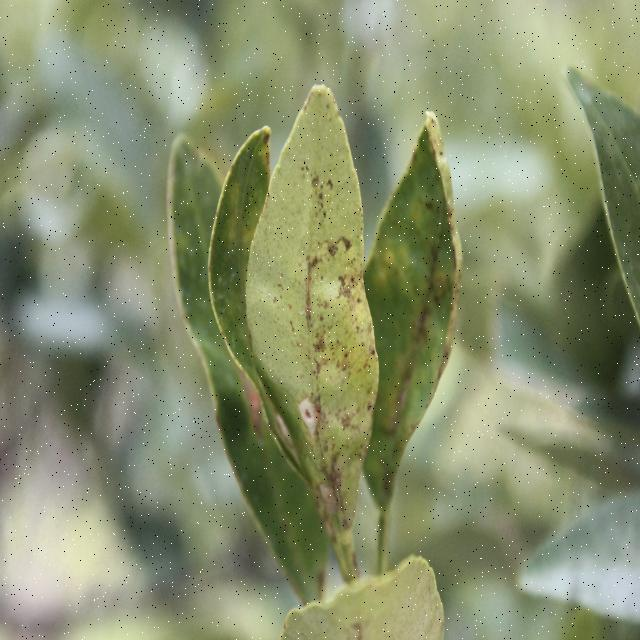canker: (269, 158, 371, 531)
